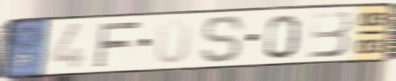0: (152, 17, 194, 66), (263, 13, 304, 61)
4: (49, 20, 90, 71)
B: (306, 10, 353, 60)
F: (92, 19, 144, 69)
S: (201, 14, 246, 65)
